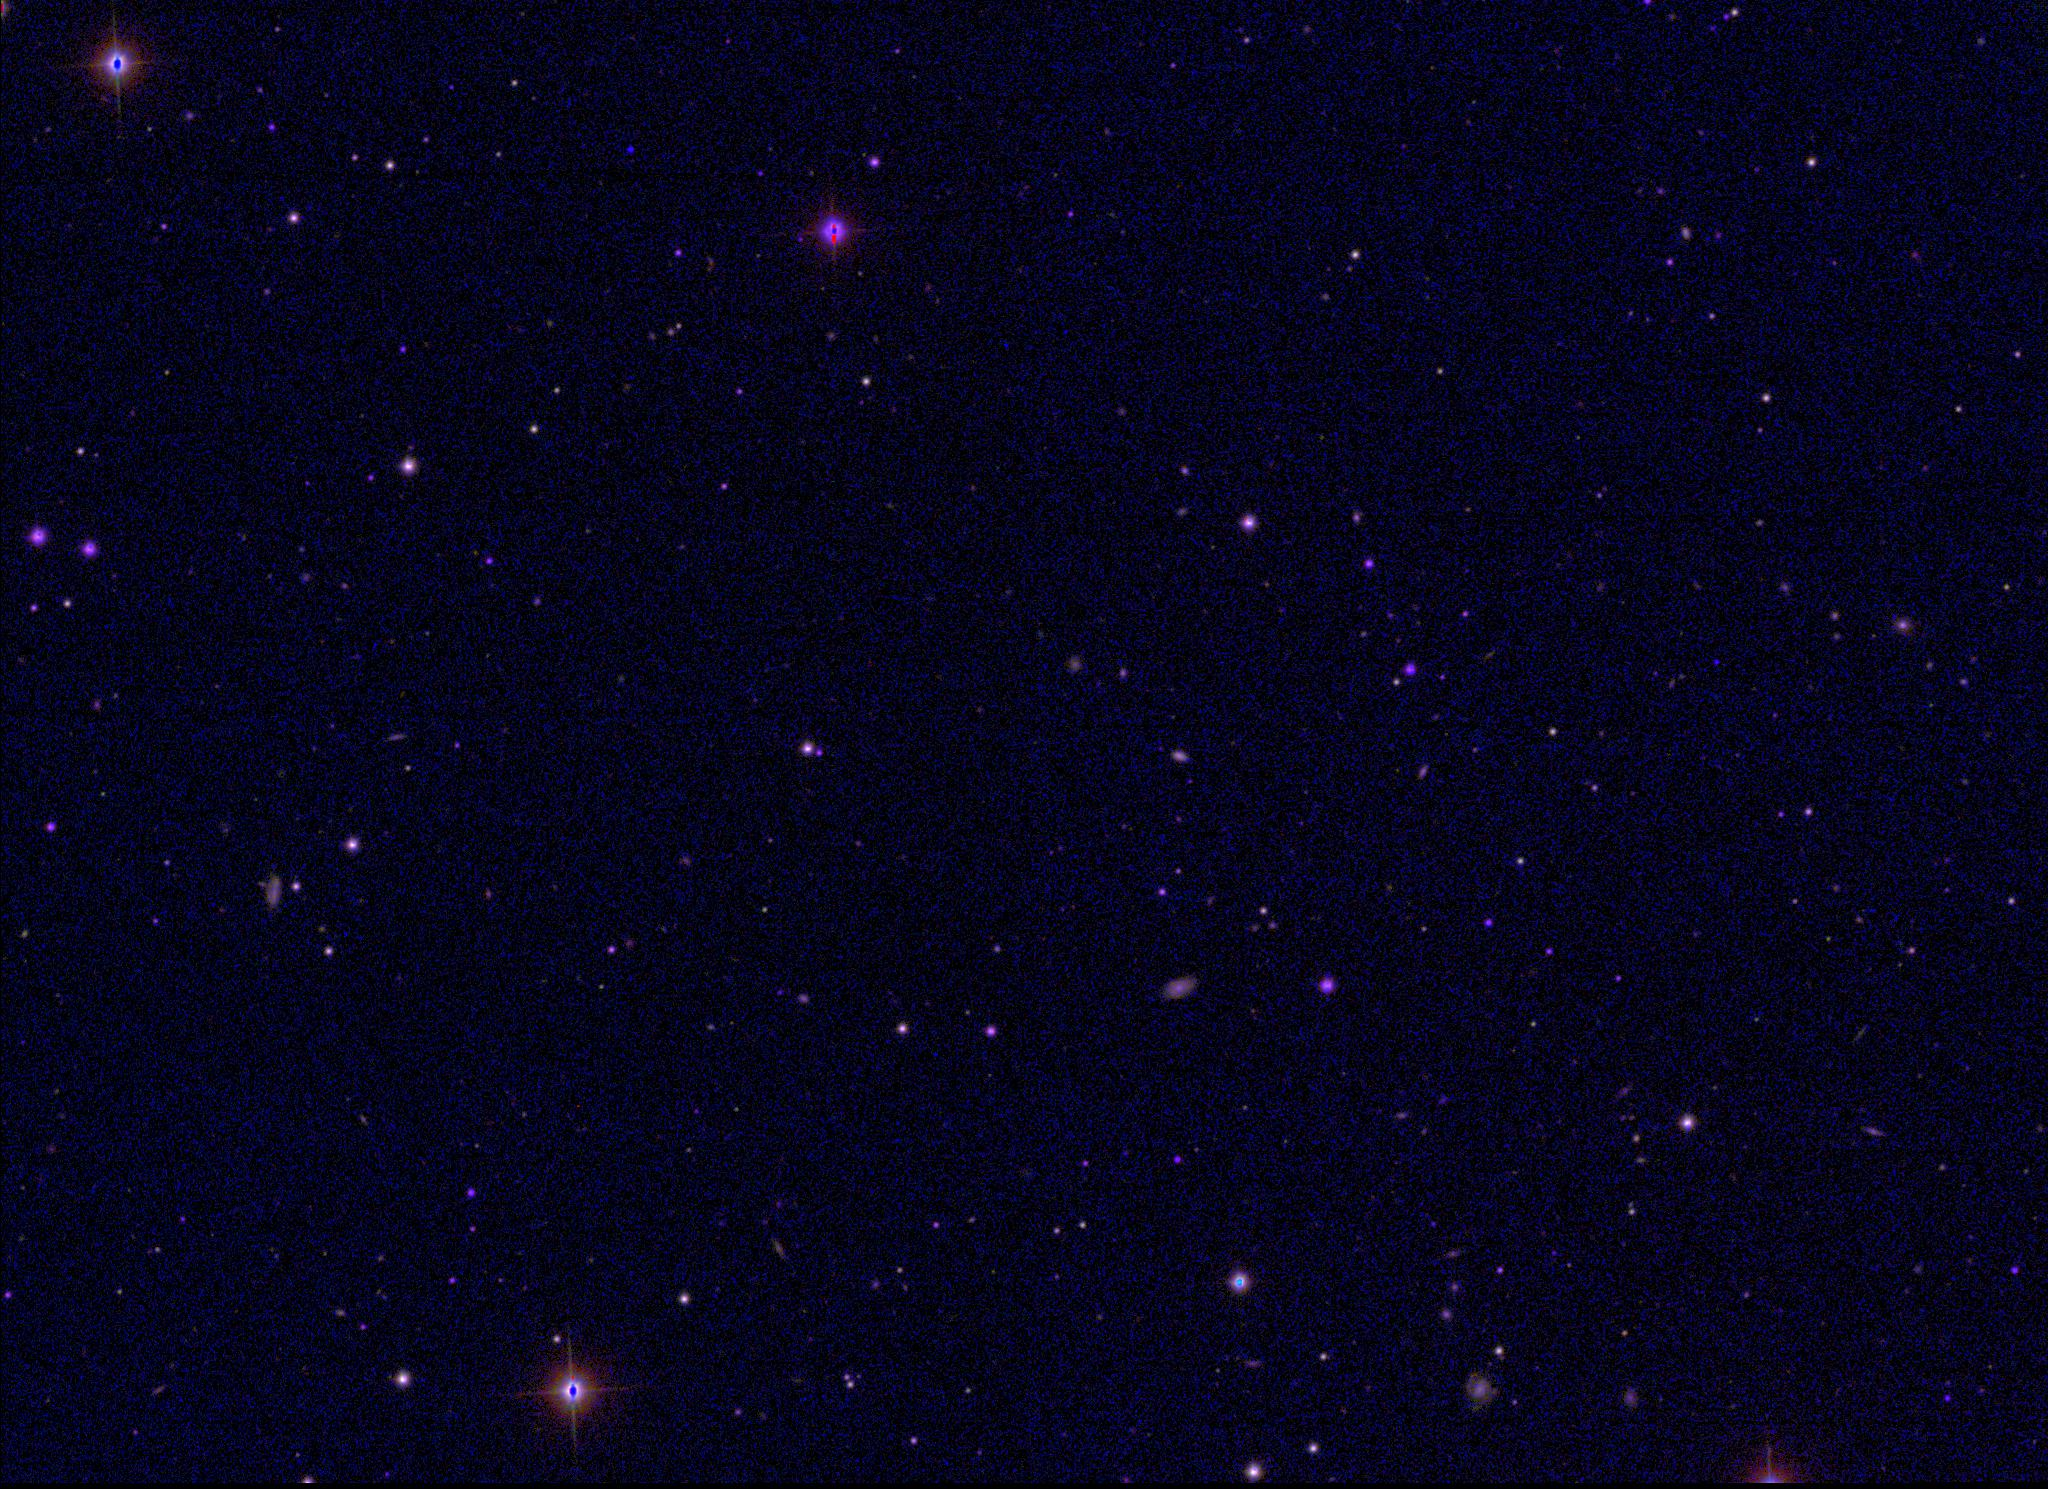L: (623, 142, 638, 156), (1709, 655, 1724, 670)
